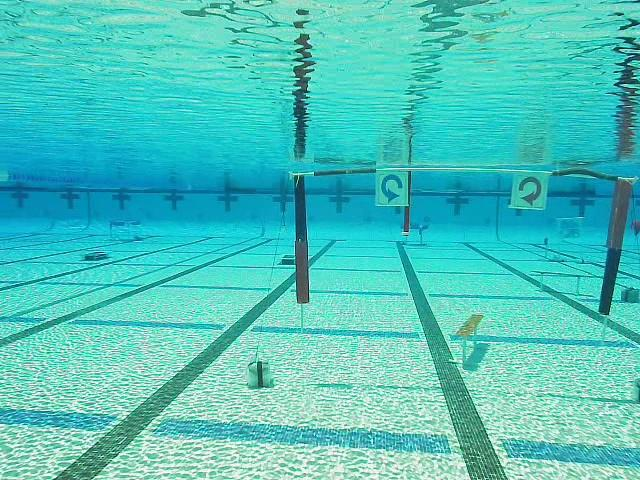dropper: (82, 250, 108, 261)
gate: (290, 167, 640, 316)
gate_blue: (376, 170, 408, 206)
gate_leg_l: (292, 172, 311, 304)
gate_leg_r: (599, 177, 640, 314)
gate_red: (510, 173, 550, 210)
torpedo: (557, 217, 584, 241)
